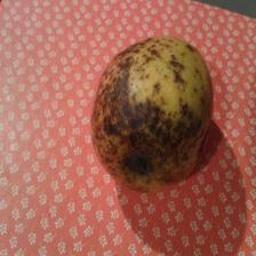Mango Rotten: (83, 22, 212, 176)
